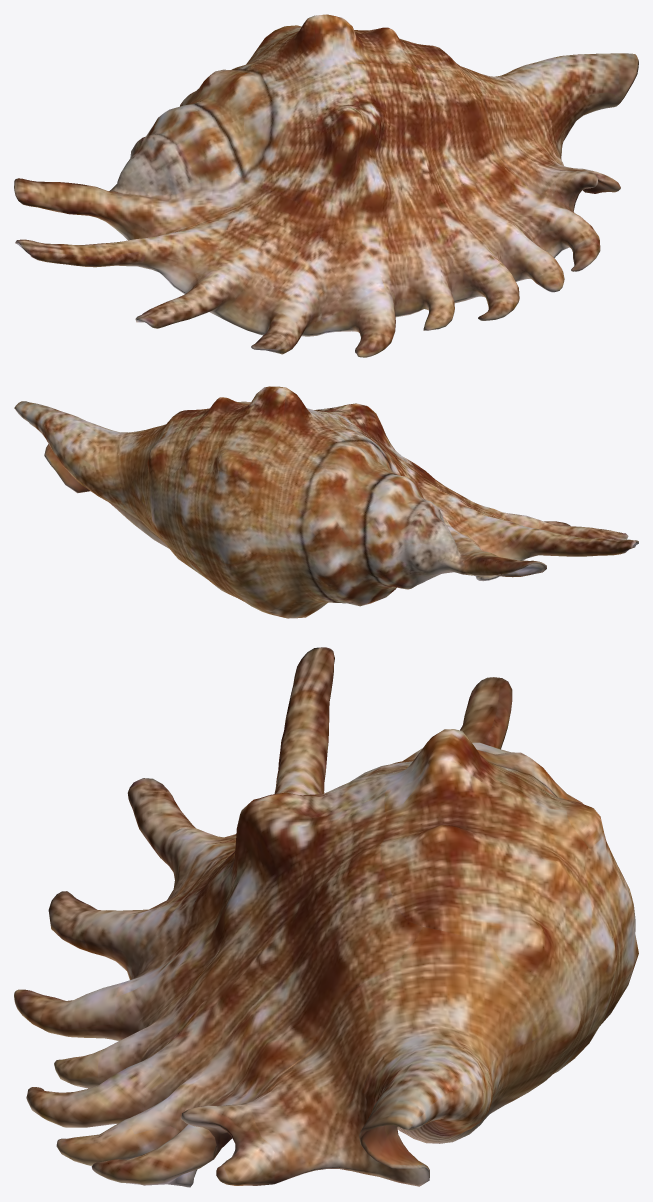
Rendered from shell.glb.
3 renders of one model, top to bottom at view 1: azimuth 30°, elevation 25°; view 2: azimuth 150°, elevation 25°; view 3: azimuth 270°, elevation 25°, orthographic. The views are drawn at different scales.
Visible parts, largest first — view 1: lambis_shell; view 2: lambis_shell; view 3: lambis_shell.
Boxes of the visible parts, <box> form: lambis_shell: <box>14,14,638,357</box>; lambis_shell: <box>14,386,638,618</box>; lambis_shell: <box>14,647,638,1187</box>.
Bounding box in the file's own units: 0.1395 × 0.0465 × 0.0745.
Materials: 1 (1 with a texture image).
